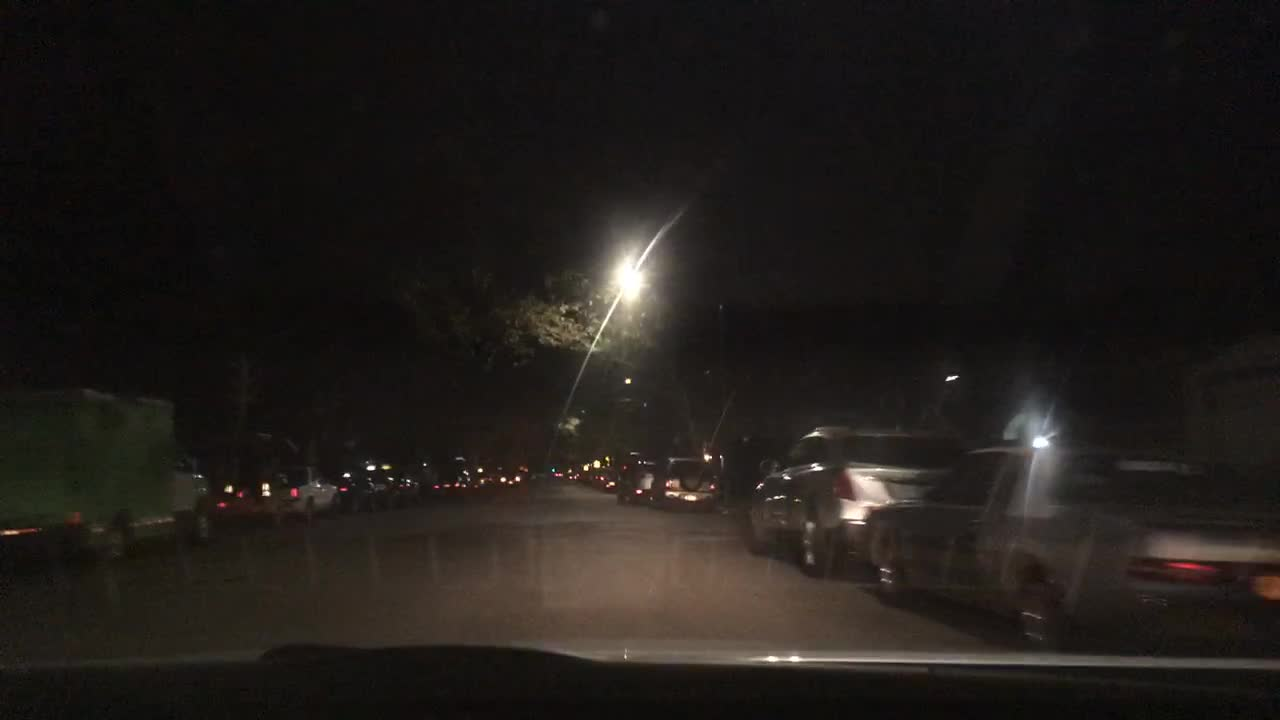car: (863, 430, 1277, 653), (741, 422, 968, 578), (270, 455, 344, 525), (652, 450, 719, 512), (208, 472, 268, 520), (336, 465, 395, 509), (616, 456, 655, 501), (395, 468, 424, 502), (590, 463, 616, 493), (497, 467, 528, 488), (431, 475, 458, 491), (472, 472, 496, 487), (454, 469, 472, 488), (579, 463, 592, 485), (563, 461, 578, 480), (550, 463, 562, 481)
truck: (0, 382, 231, 566)
